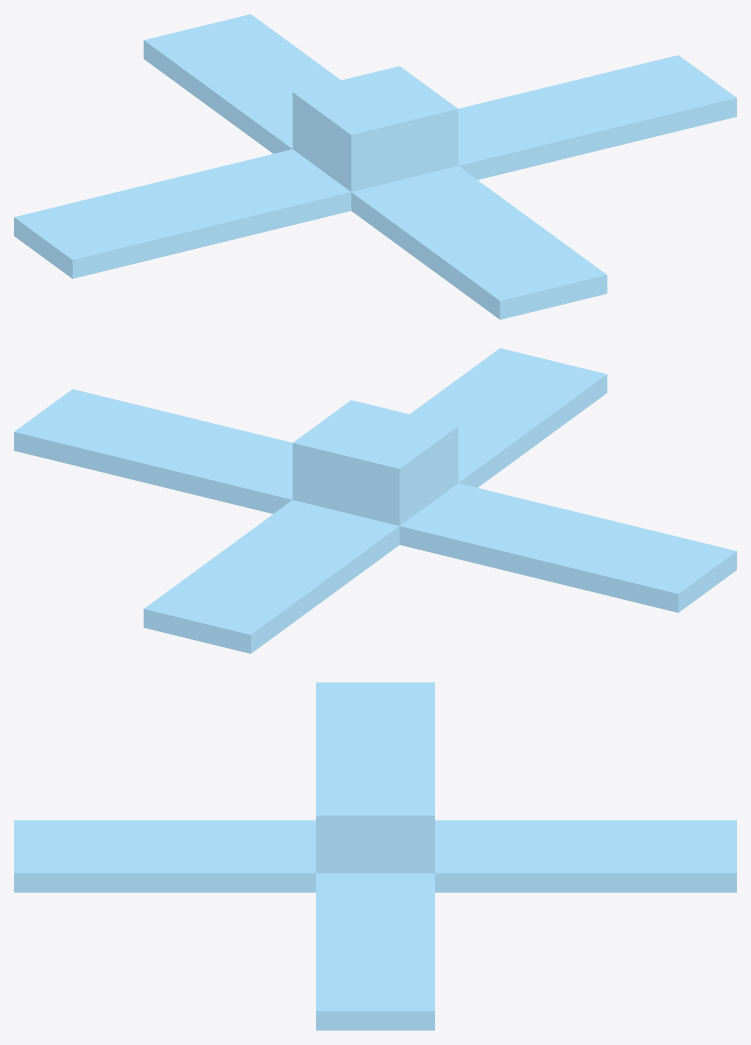
Rendered from helice.glb.
The picture shows the model from 3 angles, top to bottom: view 1: azimuth 30°, elevation 25°; view 2: azimuth 150°, elevation 25°; view 3: azimuth 270°, elevation 25°; orthographic projection.
Parts seen in each view (by area): view 1: helice; view 2: helice; view 3: helice.
Boxes of the visible parts, x1,y1,x2,y2 form: helice: (14, 14, 736, 319); helice: (14, 348, 736, 653); helice: (14, 682, 736, 1030).
Size of the model in its own units: 6.52 by 0.7122 by 6.06.
